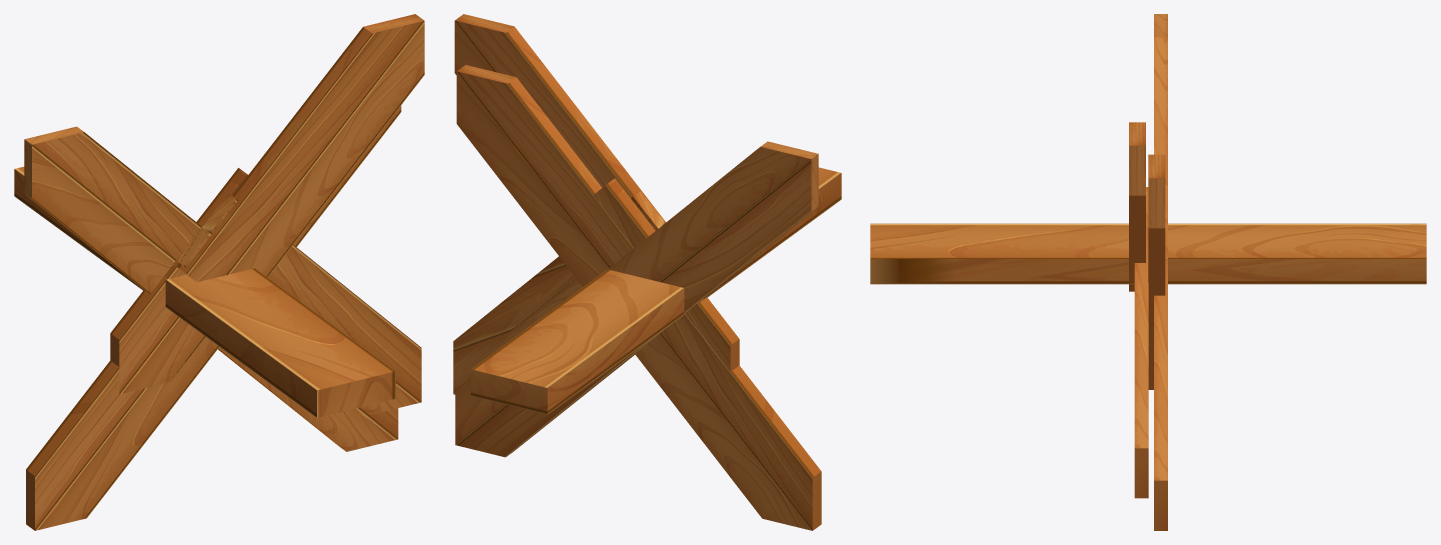
The model's file is CubeDerbis.fbx.
The picture shows the model from 3 angles, left to right: view 1: azimuth 30°, elevation 25°; view 2: azimuth 150°, elevation 25°; view 3: azimuth 270°, elevation 25°; orthographic projection. The views are drawn at different scales.
Parts seen in each view (by area): view 1: Derbis_0, Derbis_3, Derbis_1, Derbis_2; view 2: Derbis_0, Derbis_1, Derbis_3, Derbis_2; view 3: Derbis_1, Derbis_0, Derbis_3.
Boxes of the visible parts, x1,y1,x2,y2 form: Derbis_0: (24,105,401,530); Derbis_3: (176,14,424,414); Derbis_1: (14,166,395,417); Derbis_2: (110,168,247,394); Derbis_0: (455,65,821,530); Derbis_1: (471,167,841,414); Derbis_3: (453,14,665,394); Derbis_2: (594,178,739,371); Derbis_1: (870,223,1426,284); Derbis_0: (1148,14,1167,530); Derbis_3: (1129,122,1148,498).
Size of the model in its own units: 145 by 155 by 200.
